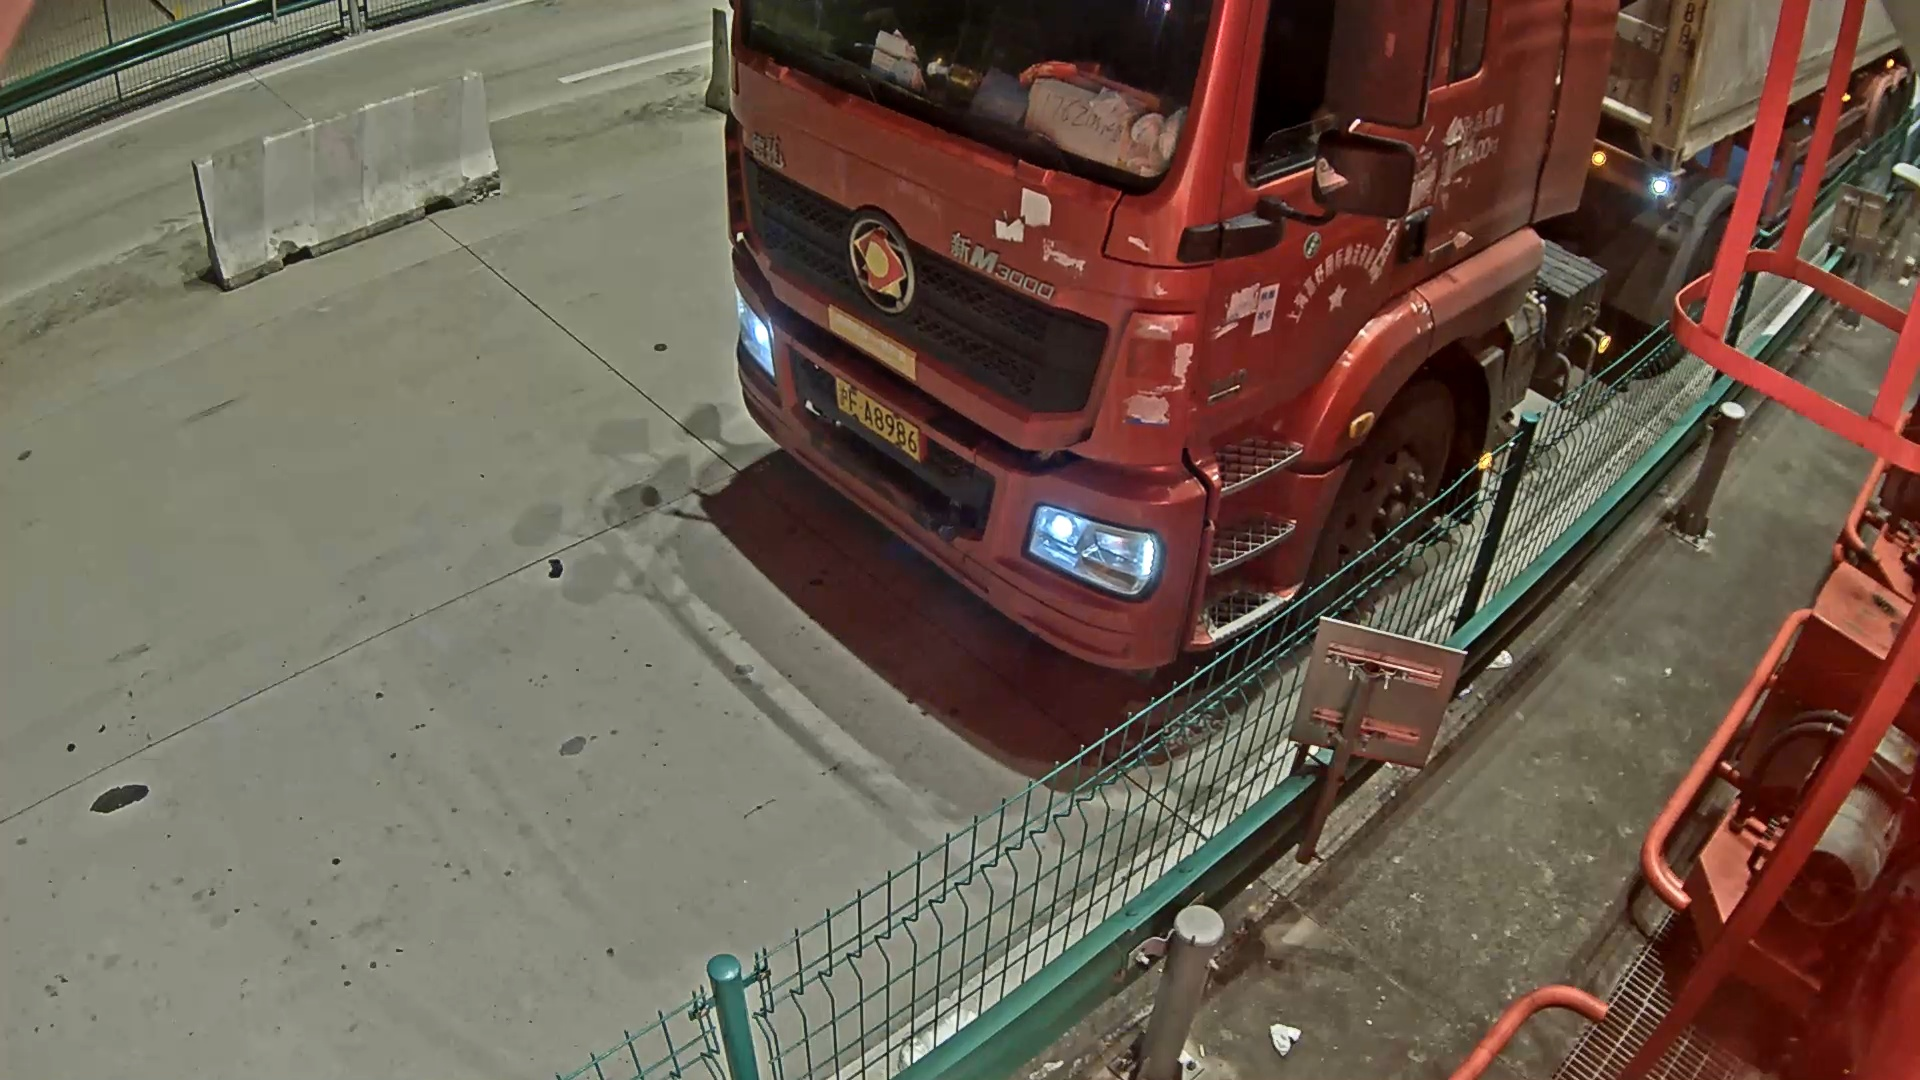head: (718, 33, 1381, 659)
plate: (814, 368, 926, 452)
